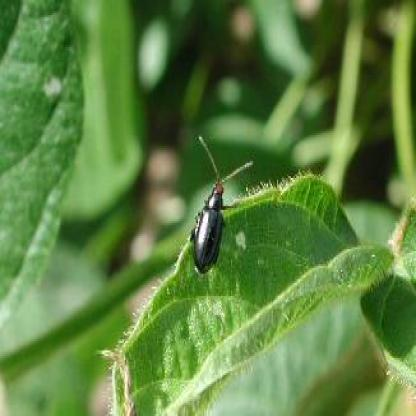beetle: (190, 134, 241, 274)
